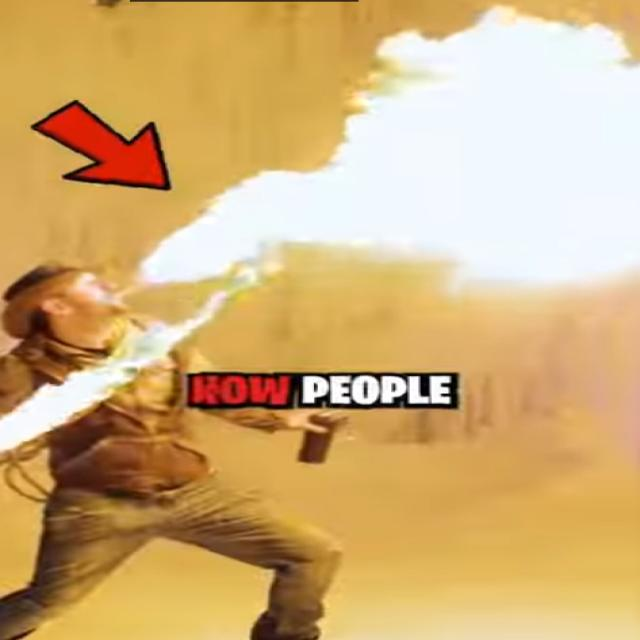fire: (132, 0, 640, 300), (0, 268, 262, 453)
